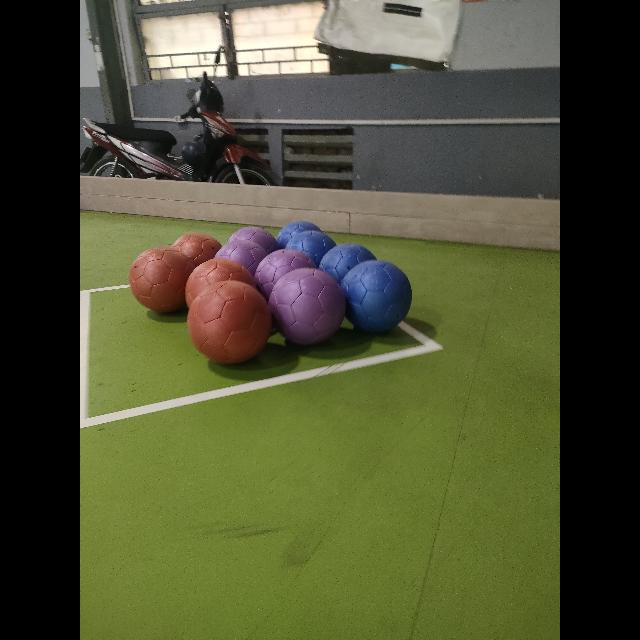B: (341, 260, 412, 332), (320, 238, 376, 300), (288, 230, 336, 266)
P: (269, 268, 345, 344), (252, 254, 316, 310), (228, 228, 278, 255)
R: (188, 281, 270, 364), (130, 248, 197, 312), (166, 232, 224, 278)
